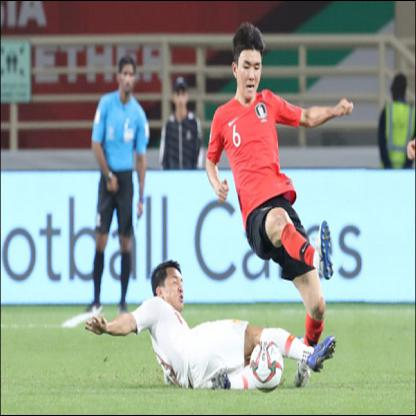Fall_Down: (83, 258, 336, 395)
